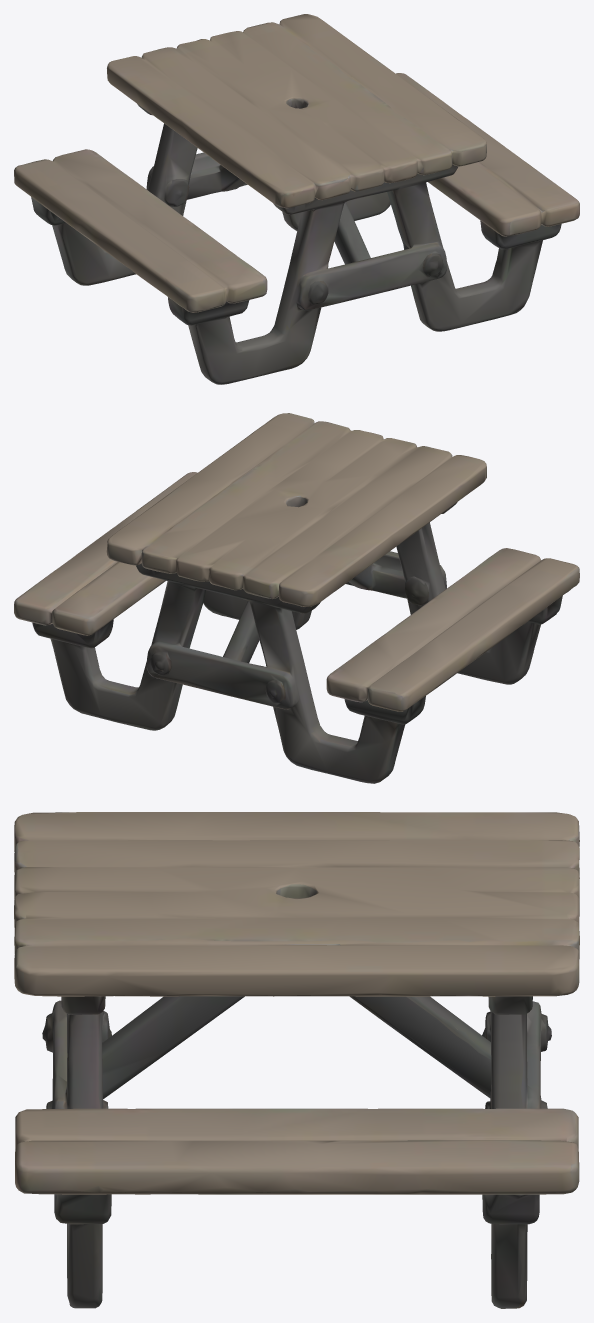
Rendered from outdoor_table.glb.
3 views of the same model, one above another, from view 1: azimuth 30°, elevation 25°; view 2: azimuth 150°, elevation 25°; view 3: azimuth 270°, elevation 25° (orthographic). The views are drawn at different scales.
Parts seen in each view (by area): view 1: geometry_0; view 2: geometry_0; view 3: geometry_0.
Boxes of the visible parts, bbox=[...] form: geometry_0: bbox=[14, 14, 579, 384]; geometry_0: bbox=[14, 413, 579, 783]; geometry_0: bbox=[14, 812, 579, 1308].
Size of the model in its own units: 1 by 0.4774 by 0.7982.
Materials: 1 (1 with a texture image).
